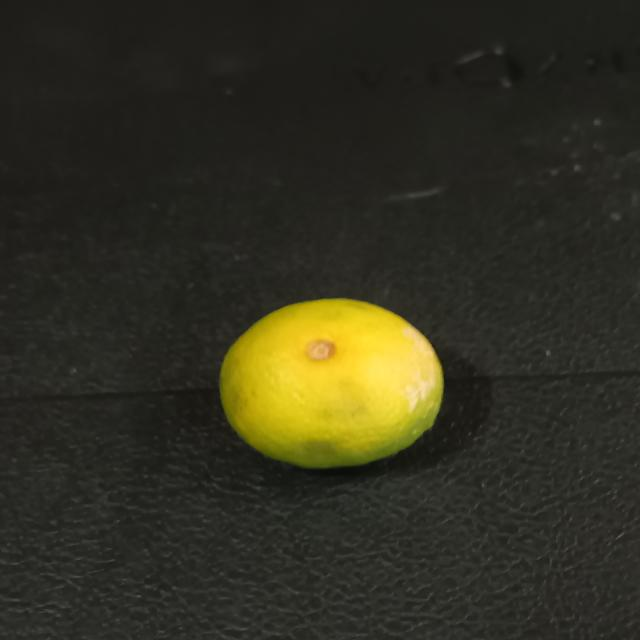greening: (209, 297, 451, 475)
